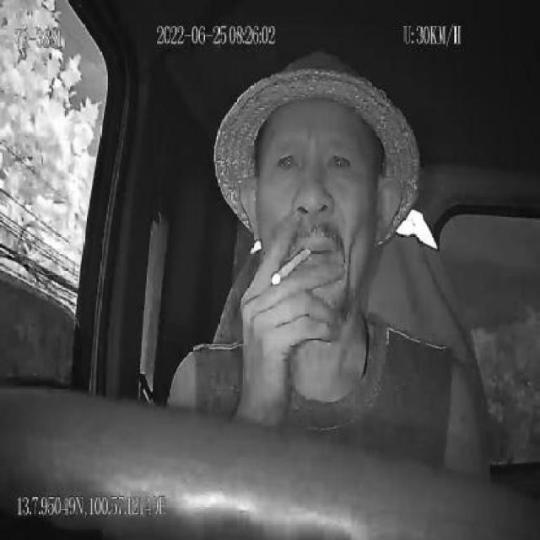smoking: (270, 243, 313, 288)
